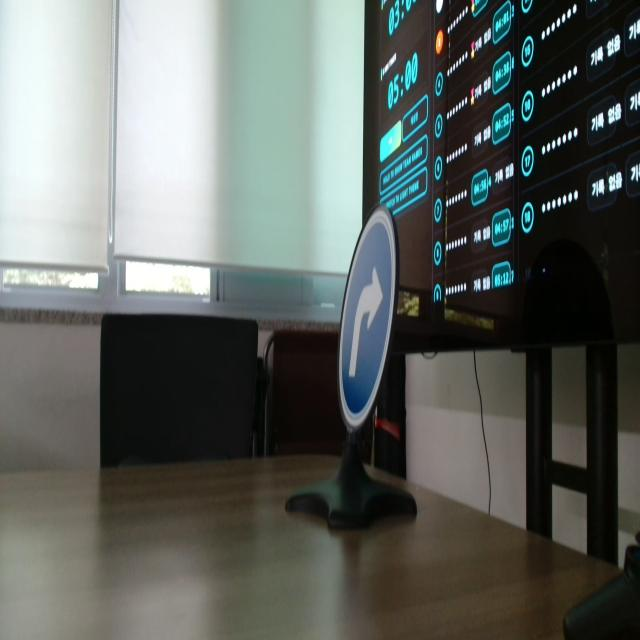right_dierection: (314, 190, 418, 442)
